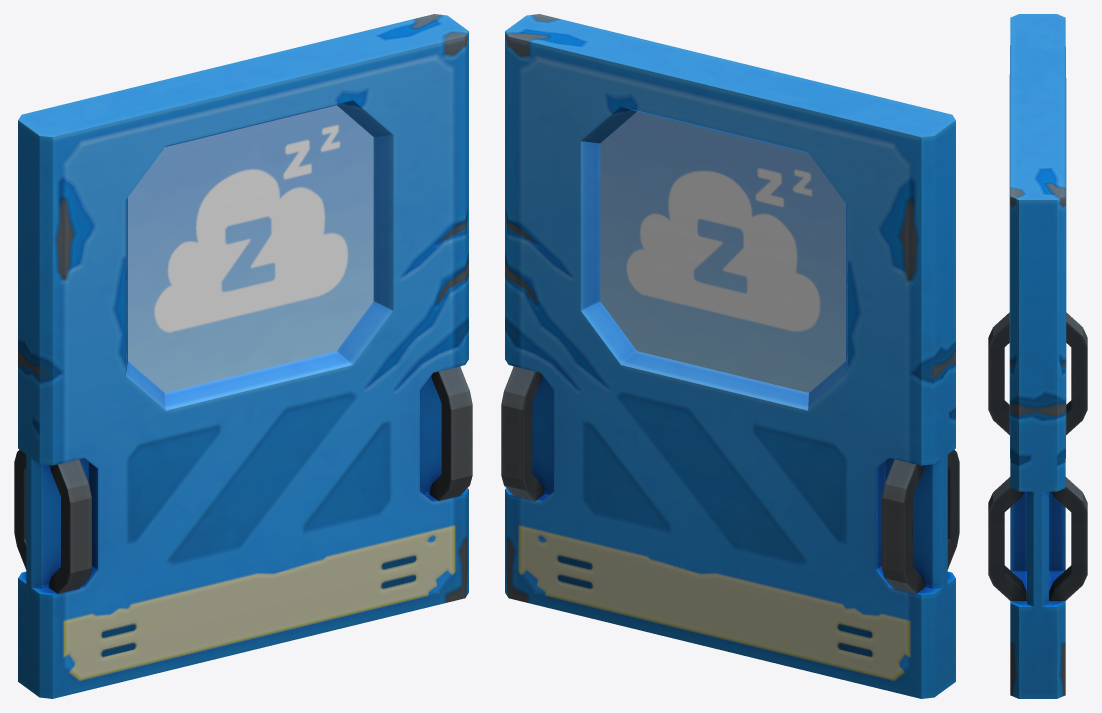
The model's file is obj_survivalobjects_capsuledoor.fbx.
3 views of the same model, side by side, from view 1: azimuth 30°, elevation 25°; view 2: azimuth 150°, elevation 25°; view 3: azimuth 270°, elevation 25° (orthographic). The views are drawn at different scales.
Visible parts, largest first — view 1: obj_survivalobjects_capsuledoor; view 2: obj_survivalobjects_capsuledoor; view 3: obj_survivalobjects_capsuledoor.
Boxes of the visible parts, box(x1,y1,x2,y2) form: obj_survivalobjects_capsuledoor: box(14, 14, 472, 698); obj_survivalobjects_capsuledoor: box(501, 14, 959, 698); obj_survivalobjects_capsuledoor: box(988, 14, 1087, 698).
Size of the model in its own units: 8 by 10 by 1.81.
